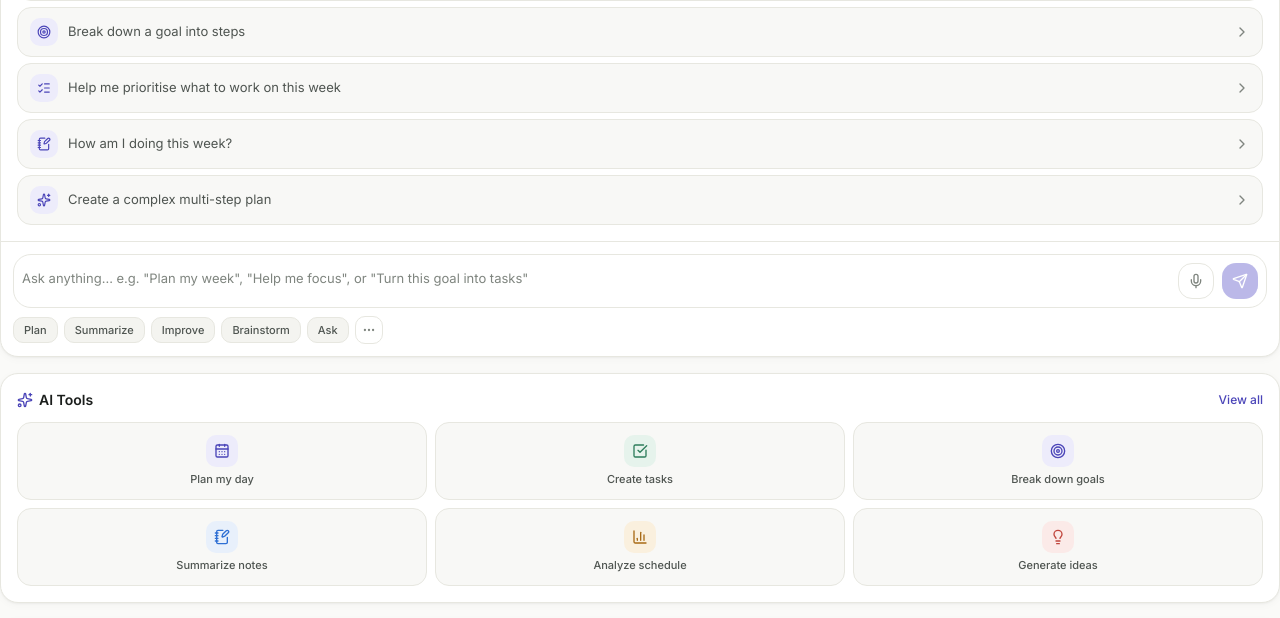
Scenario: quick prompts › renders the weekly review chart
(page scrolled)
Click the button with test id "ai-chip-summarize": {"x": 104, "y": 330} [64,317,145,343]
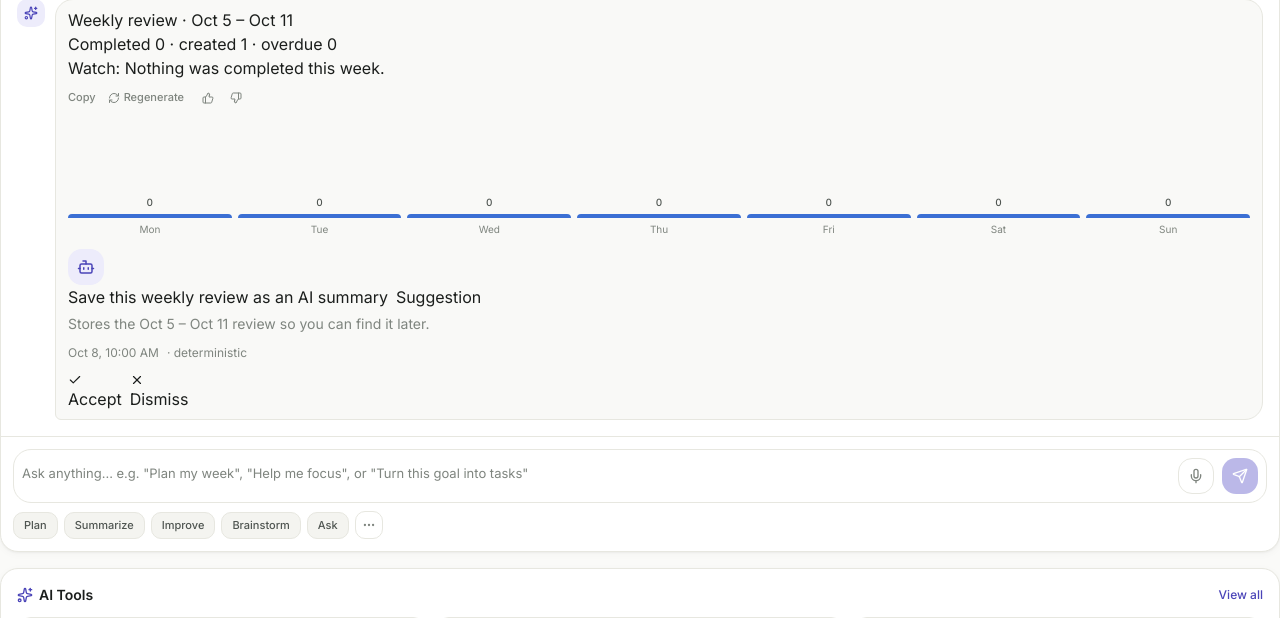
Expected: the element with test id "ai-review-chart" is shown, [68,196,1250,234]
